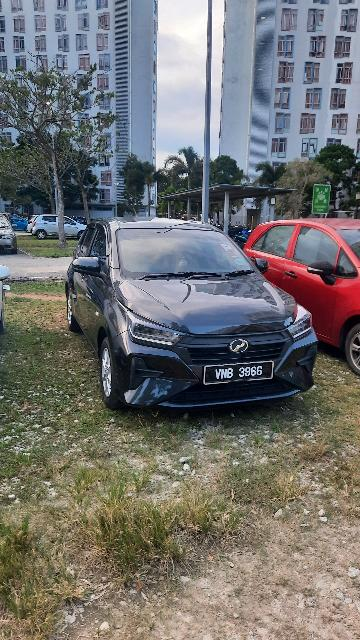License_Plate: (202, 359, 276, 387)
car: (62, 215, 321, 413)
